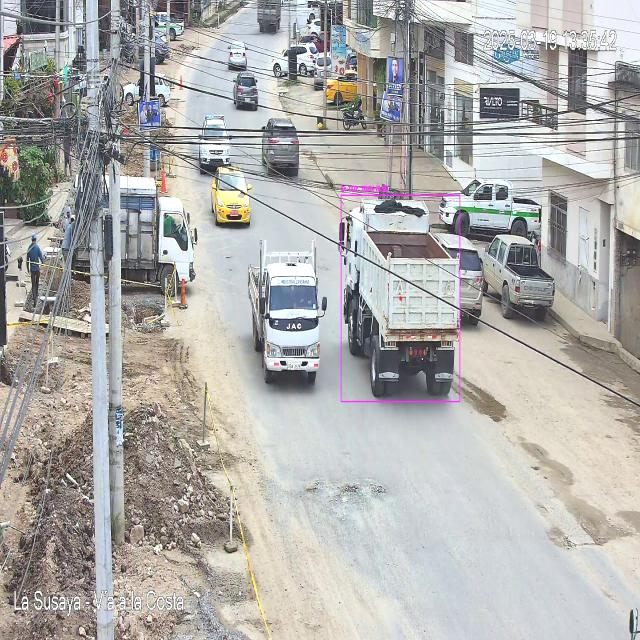TRUCK: (342, 197, 454, 397), (248, 241, 328, 384)
